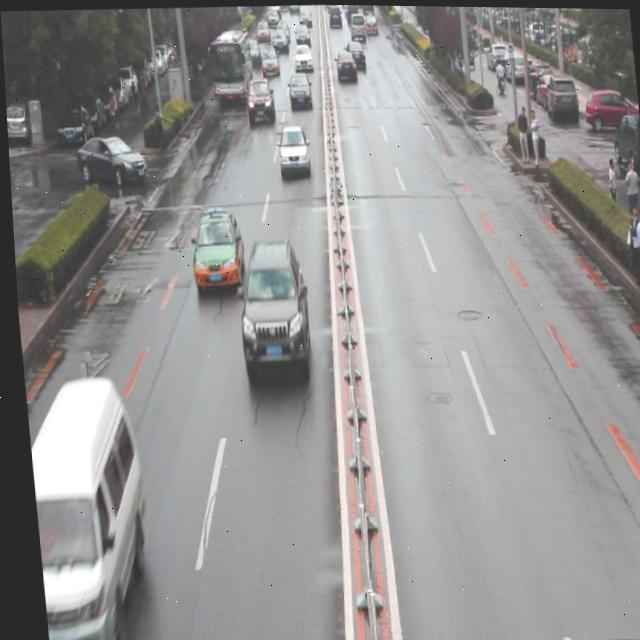car: (229, 238, 307, 374), (186, 205, 243, 290), (74, 133, 146, 191), (273, 124, 309, 176), (241, 78, 274, 122), (284, 71, 311, 109)
truck: (18, 369, 150, 640)
van: (207, 27, 254, 101)
